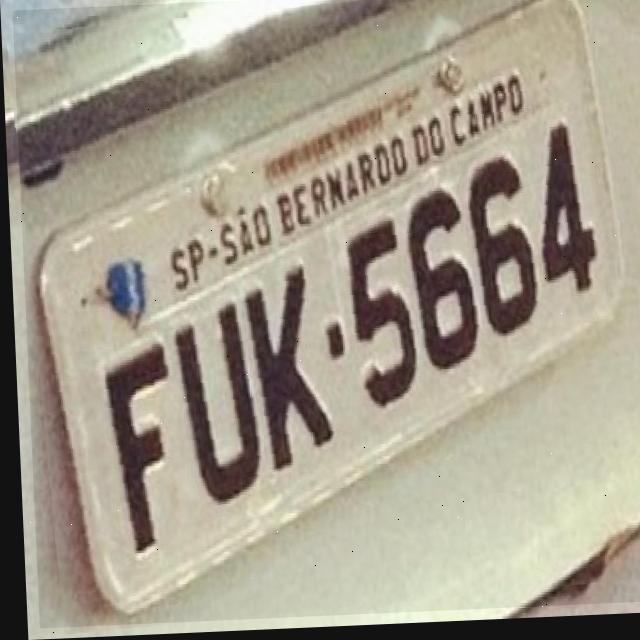LicensePlate: (12, 0, 640, 629)
